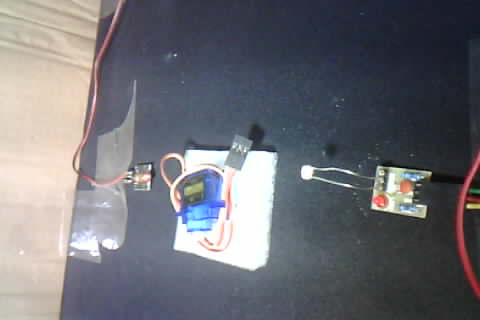motor: (161, 132, 268, 268)
